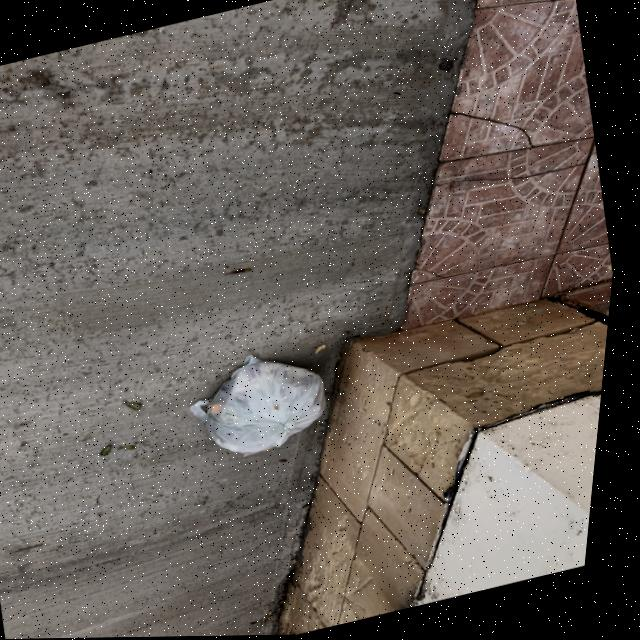Organic Waste -White Bag-: (183, 328, 357, 481)
